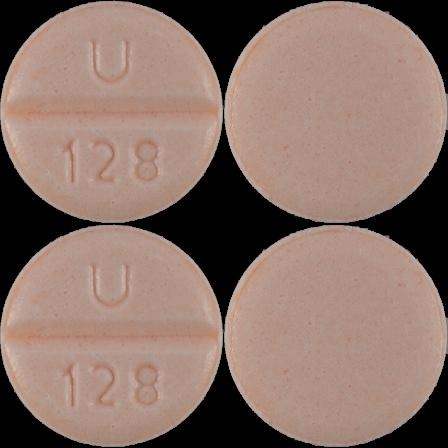50090-0140: (0, 0, 224, 224)
